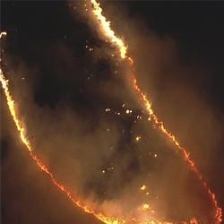fire: (91, 2, 221, 224), (1, 55, 88, 222)
